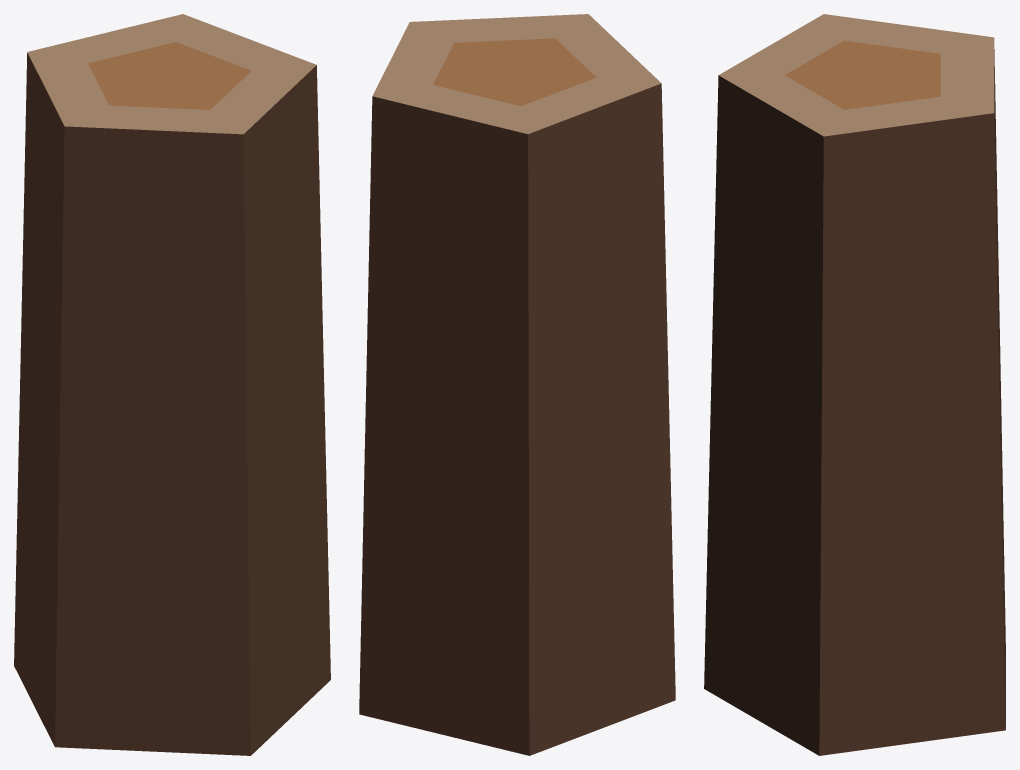
Rendered from TB_D_Env_TrunkA_B.FBX.
The picture shows the model from 3 angles, left to right: view 1: azimuth 30°, elevation 25°; view 2: azimuth 150°, elevation 25°; view 3: azimuth 270°, elevation 25°; orthographic projection.
Visible parts, largest first — view 1: TB_D_Env_TrunkA_B; view 2: TB_D_Env_TrunkA_B; view 3: TB_D_Env_TrunkA_B.
Part boxes in pixels (x1=…): TB_D_Env_TrunkA_B: x1=14, y1=14, x2=330, y2=755; TB_D_Env_TrunkA_B: x1=359, y1=14, x2=675, y2=755; TB_D_Env_TrunkA_B: x1=704, y1=14, x2=1005, y2=755.
Bounding box in the file's own units: 0.7629 × 1.63 × 0.7256.
